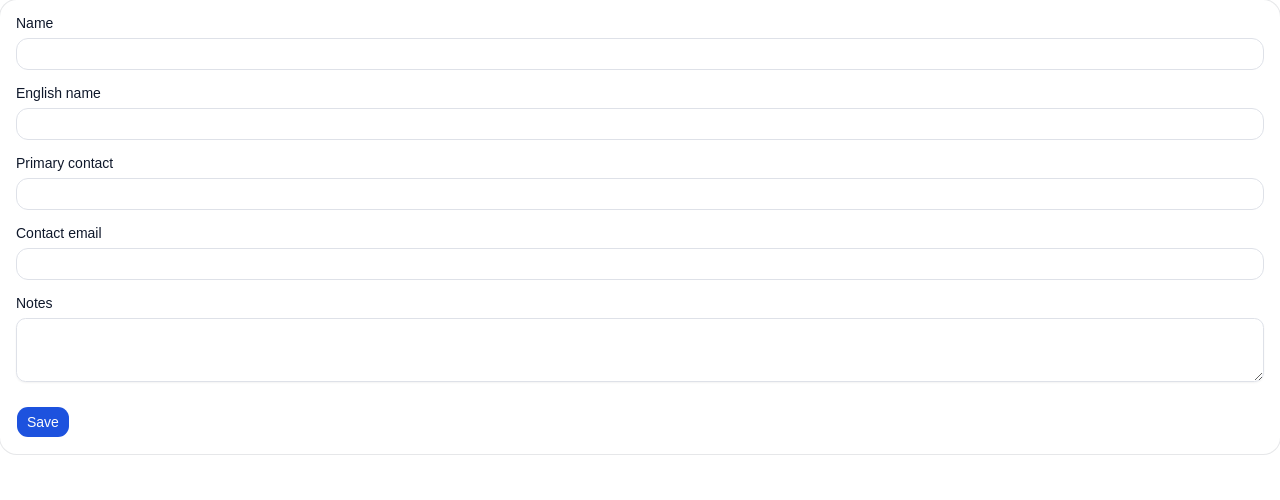
ClientForm › rejects invalid email and shows error
The image size is (1280, 500).
Type "Test" into the field labelled "Name" at (640, 54), box [16, 38, 1264, 70]
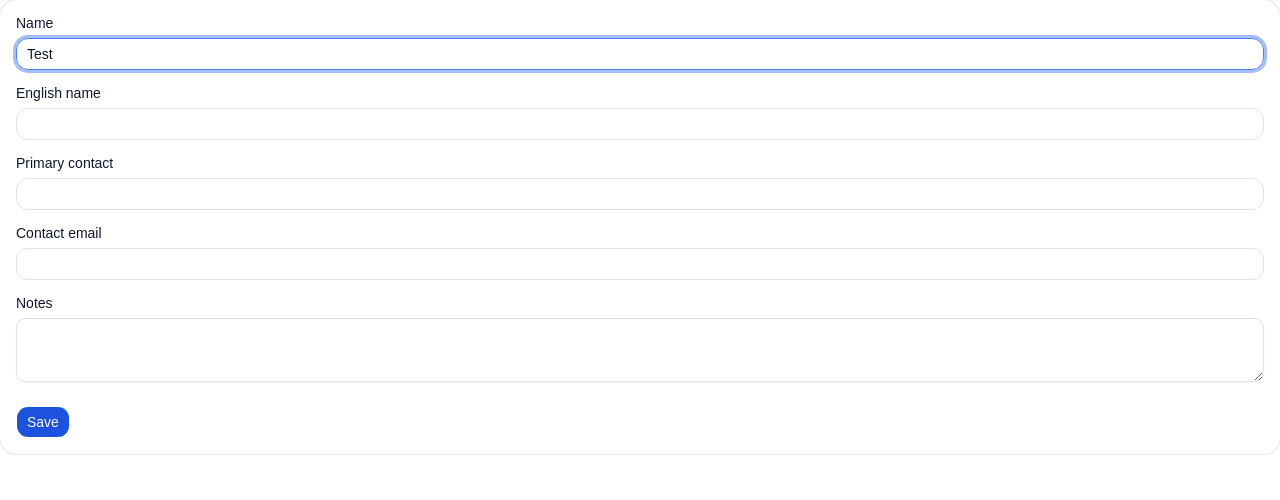
Type "not-an-email" into the field labelled "Contact email" at (640, 264), box [16, 248, 1264, 280]
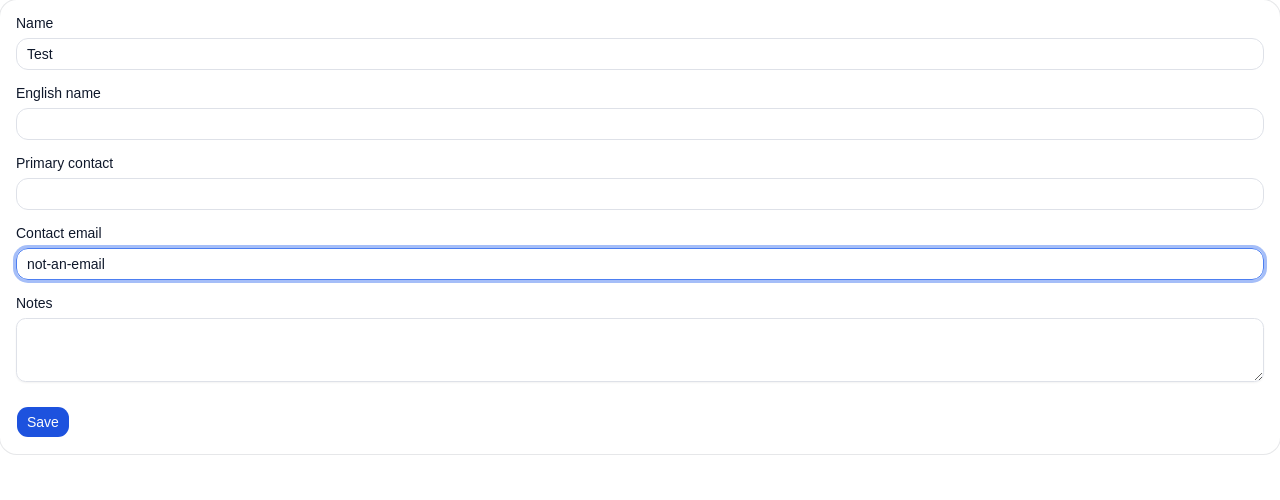
Click the button "Save" at (43, 422), box [16, 406, 70, 438]
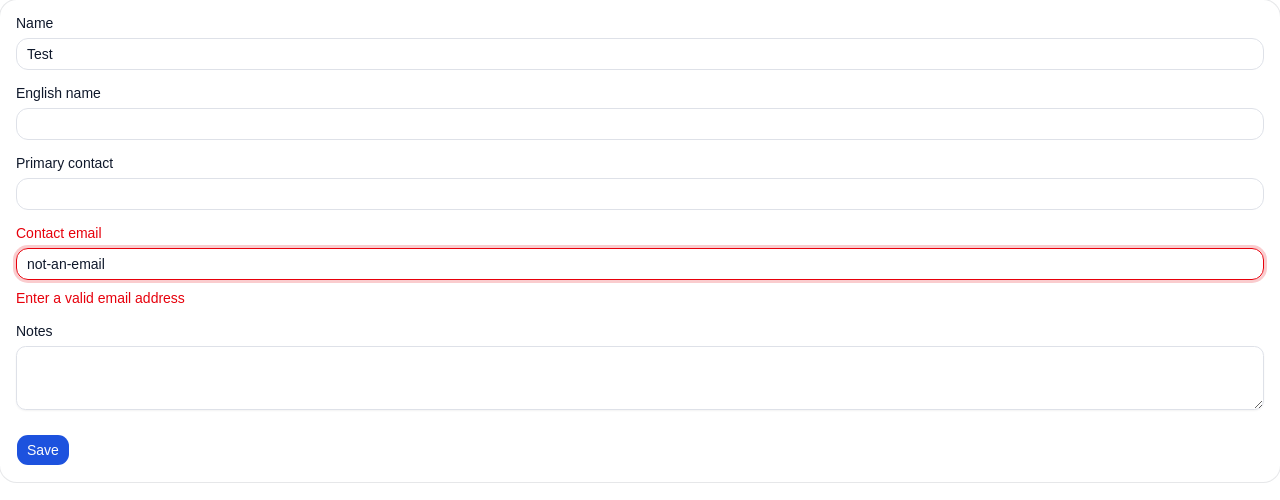
expect the text "Enter a valid email address" is shown: met, box [16, 290, 185, 306]
